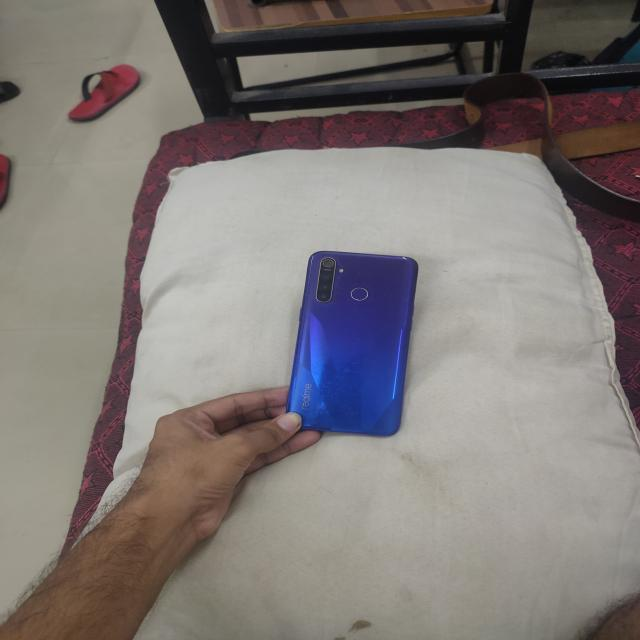Phone: (277, 246, 423, 439)
